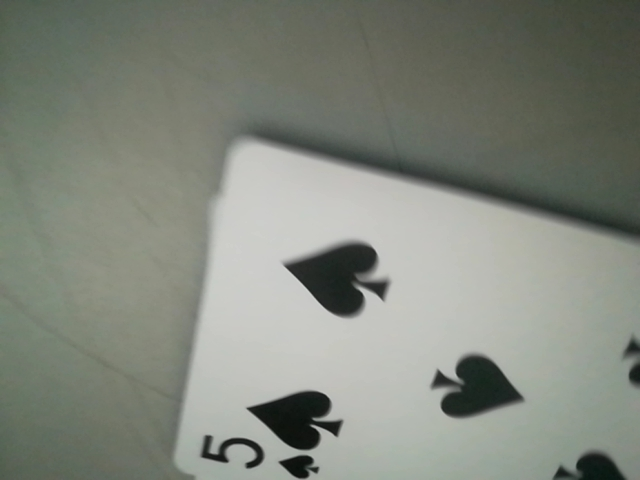ht 5: (190, 435, 337, 478)
